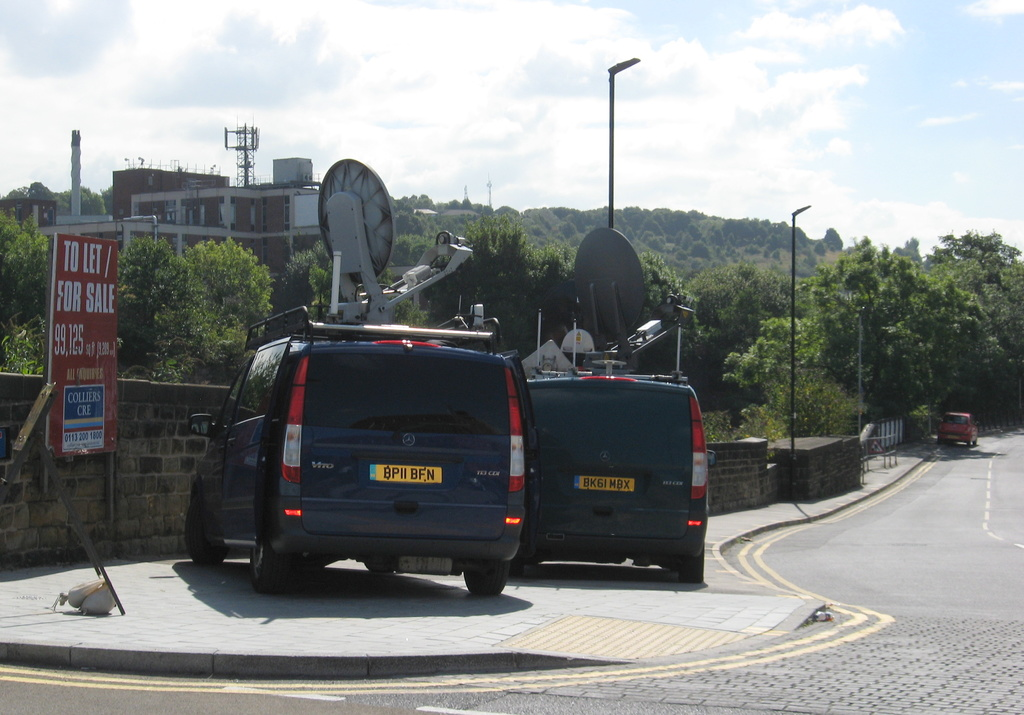license plate: (368, 460, 443, 484), (572, 471, 640, 490)
